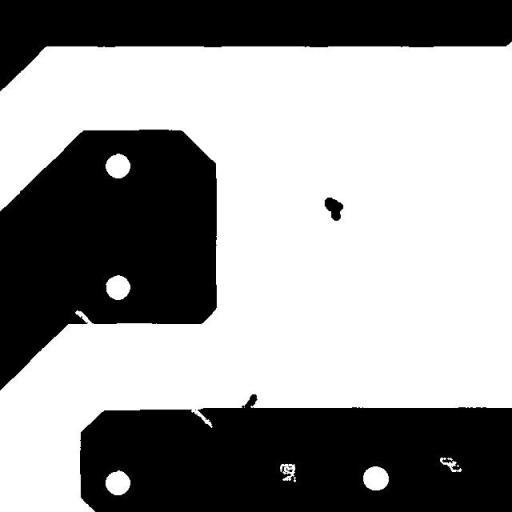copper: (317, 190, 350, 228)
mousebite: (183, 402, 220, 435), (67, 302, 102, 333)
pin-hole: (432, 450, 469, 479), (272, 456, 303, 490)
spur: (234, 386, 264, 418)
